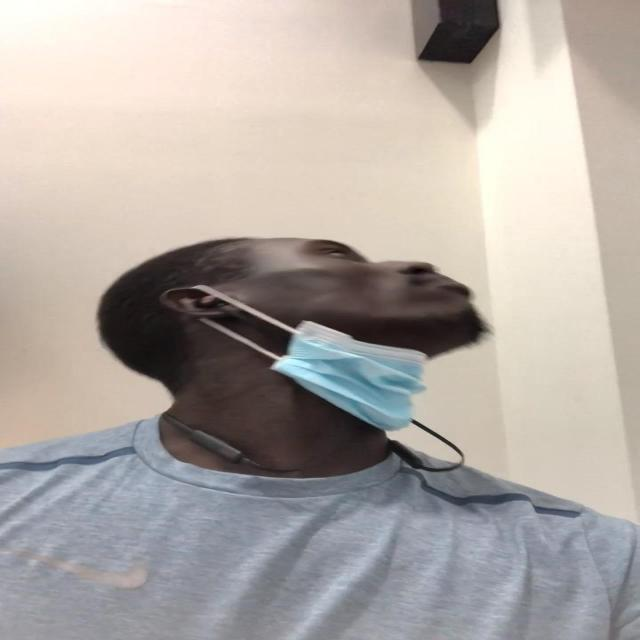face: (206, 238, 492, 432)
